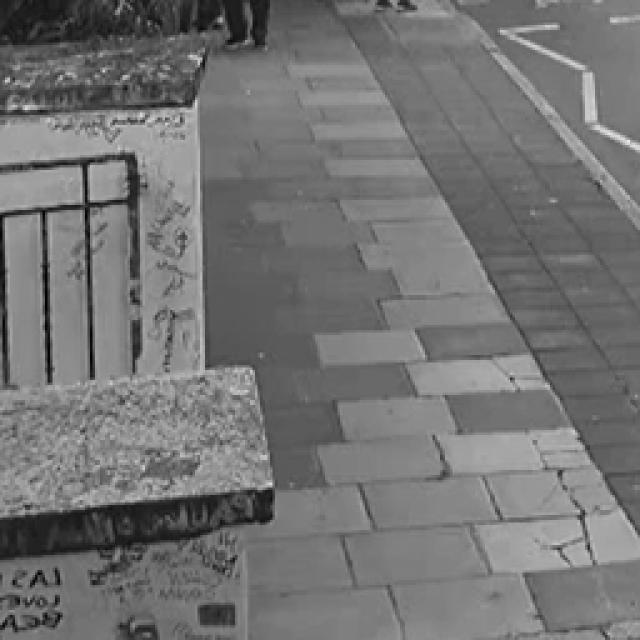Invader: (210, 0, 275, 50)
